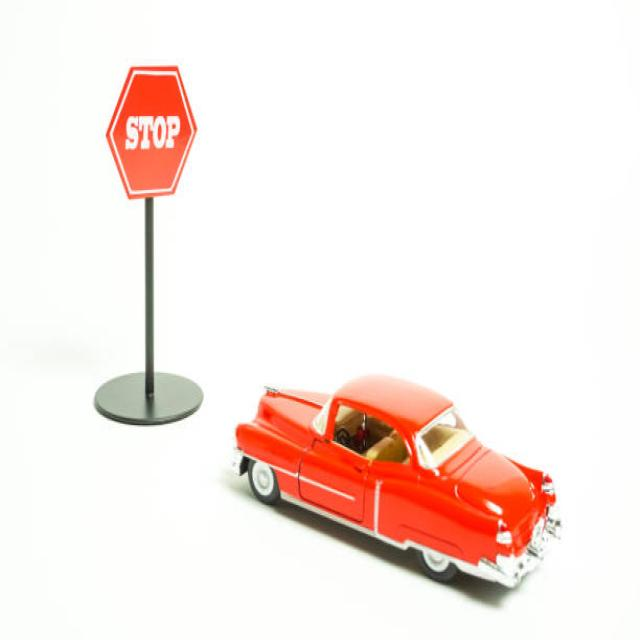Car: (231, 372, 561, 589)
